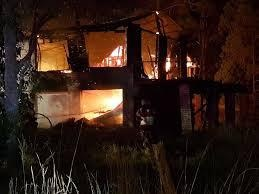fire: (143, 52, 198, 79), (95, 43, 126, 66)
